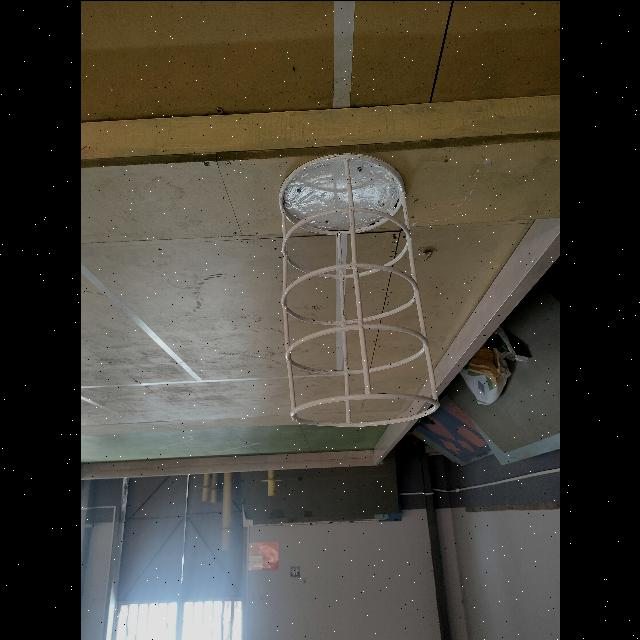S: (278, 152, 440, 431)
